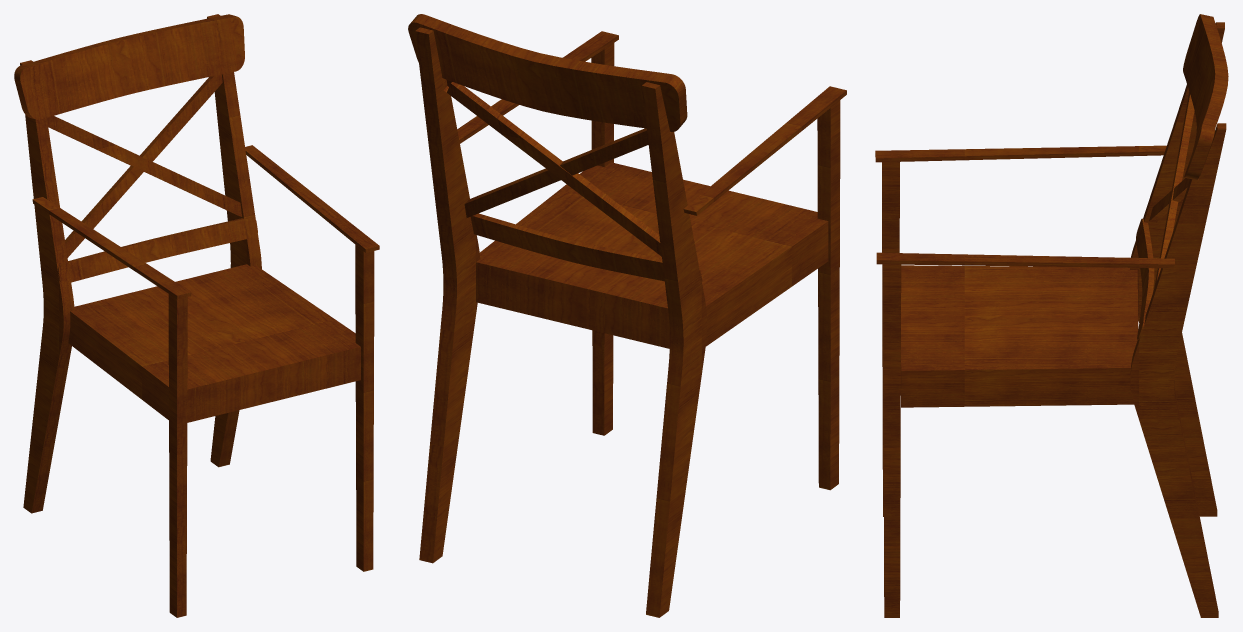
File: chair.obj
3 renders of one model, left to right at view 1: azimuth 30°, elevation 25°; view 2: azimuth 150°, elevation 25°; view 3: azimuth 270°, elevation 25°, orthographic. The views are drawn at different scales.
Parts seen in each view (by area): view 1: Layer_0; view 2: Layer_0; view 3: Layer_0.
Boxes of the visible parts, x1,y1,x2,y2 form: Layer_0: [14, 14, 379, 617]; Layer_0: [408, 14, 846, 617]; Layer_0: [875, 14, 1228, 617].
Bounding box in the file's own units: 479 × 913 × 592.
